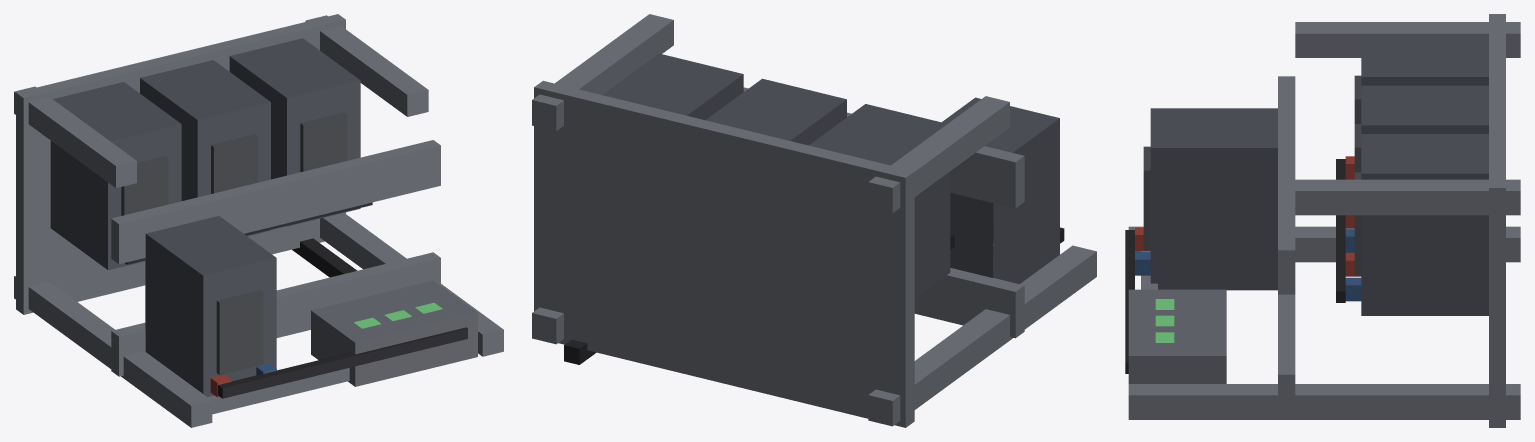
The model's file is bank_ground_standard_c4_S.obj.
The picture shows the model from 3 angles, left to right: view 1: azimuth 30°, elevation 25°; view 2: azimuth 150°, elevation 25°; view 3: azimuth 270°, elevation 25°; orthographic projection. The views are drawn at different scales.
Visible parts, largest first — view 1: bank_ground_standard_c4_S; view 2: bank_ground_standard_c4_S; view 3: bank_ground_standard_c4_S.
Boxes of the visible parts, x1,y1,x2,y2 form: bank_ground_standard_c4_S: [14, 14, 503, 427]; bank_ground_standard_c4_S: [532, 14, 1096, 427]; bank_ground_standard_c4_S: [1125, 14, 1520, 427].
Size of the model in its own units: 0.84 by 0.56 by 0.807.
1 material, 1 textured.
